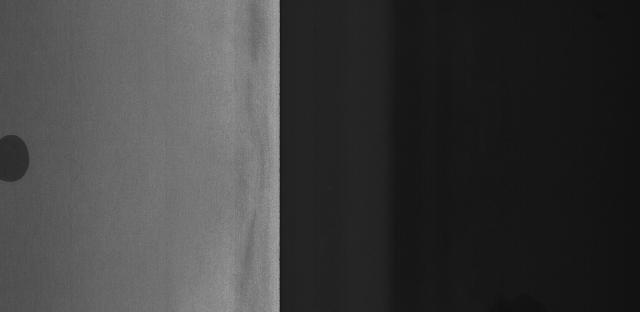oil_spot: (0, 119, 46, 195)
